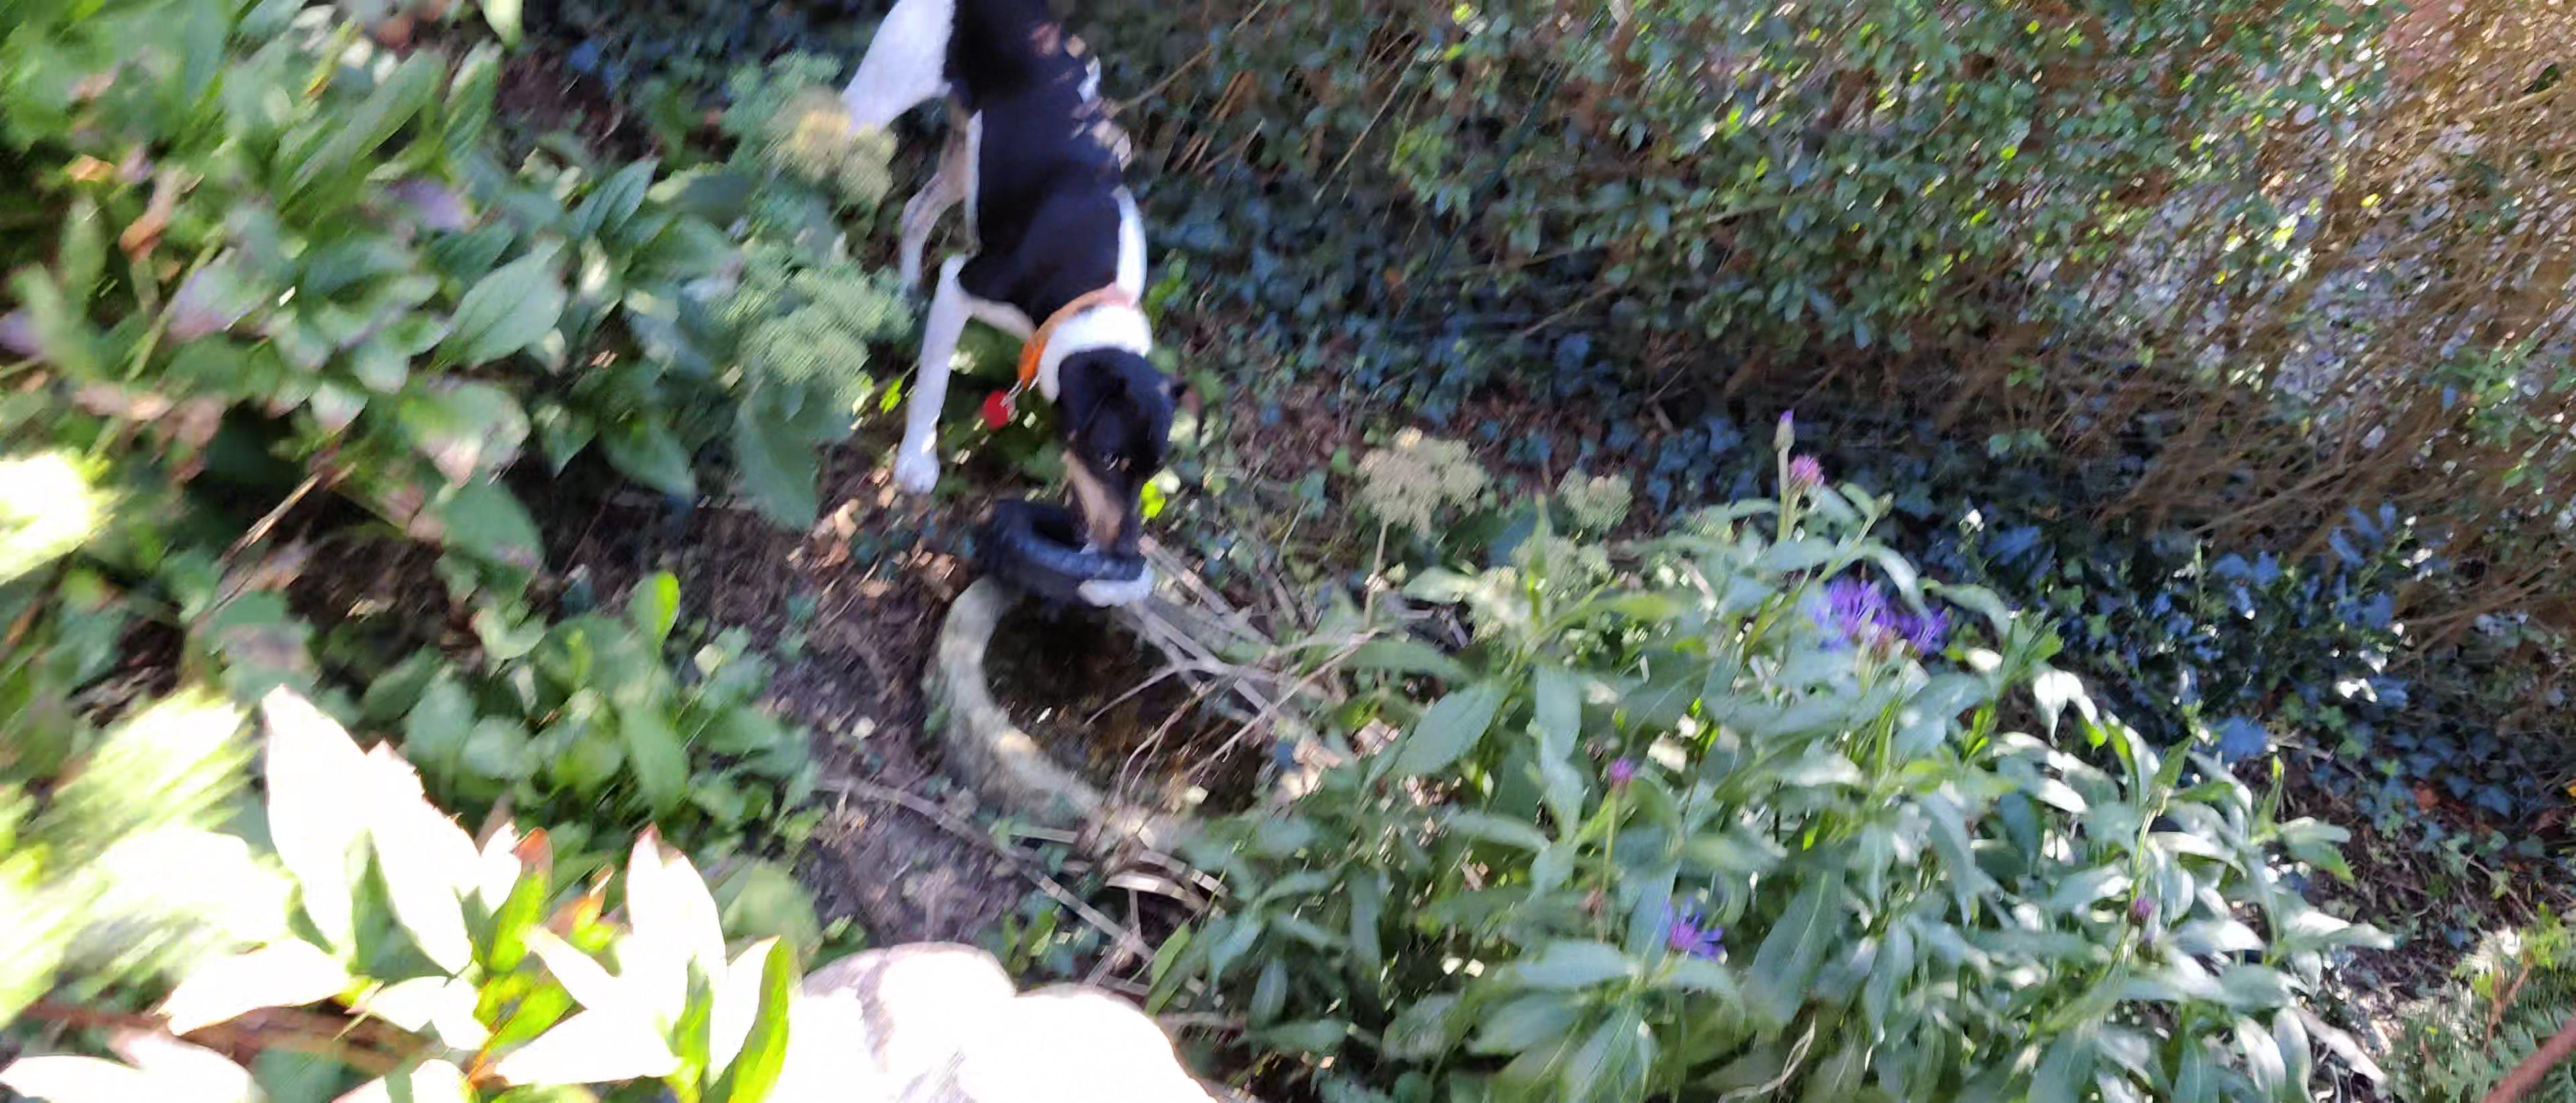Dog: (831, 0, 1193, 565)
